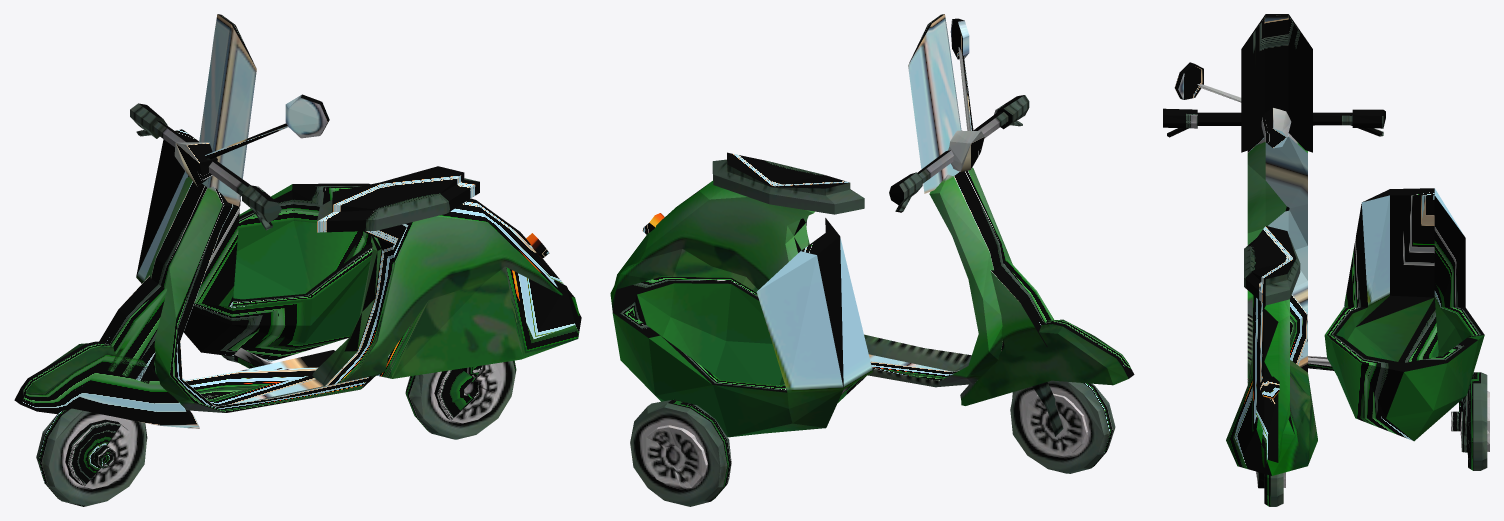
File: Vespa2.glb
3 renders of one model, left to right at view 1: azimuth 30°, elevation 25°; view 2: azimuth 150°, elevation 25°; view 3: azimuth 270°, elevation 25°, orthographic. The views are drawn at different scales.
Parts seen in each view (by area): view 1: Vespa2; view 2: Vespa2; view 3: Vespa2.
Part boxes in pixels (x1,y1,x2,y2): Vespa2: (14, 14, 581, 506); Vespa2: (610, 14, 1134, 506); Vespa2: (1163, 14, 1489, 506).
Bounding box in the file's own units: 137 × 110 × 83.28.
1 material, 1 textured.
